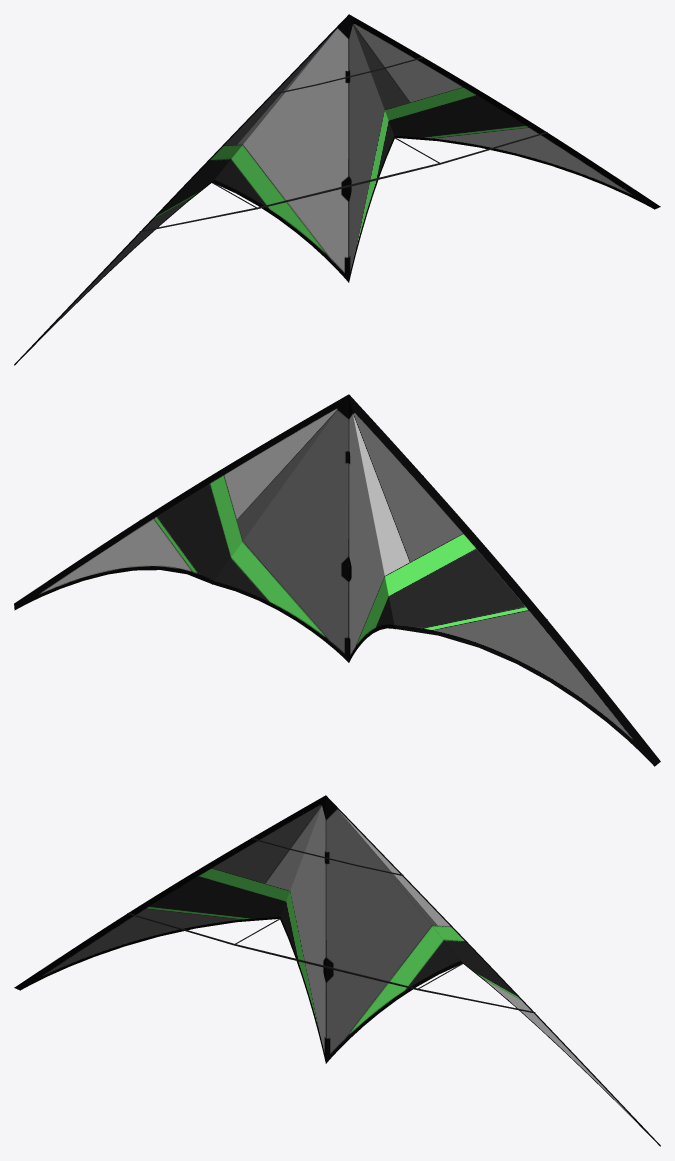
The model's file is Escape-HW-2020.obj.
3 renders of one model, top to bottom at view 1: azimuth 30°, elevation 25°; view 2: azimuth 150°, elevation 25°; view 3: azimuth 330°, elevation 25°, orthographic.
Bounding box in the file's own units: 2266 × 950 × 277.
3 materials, 2 textured.
